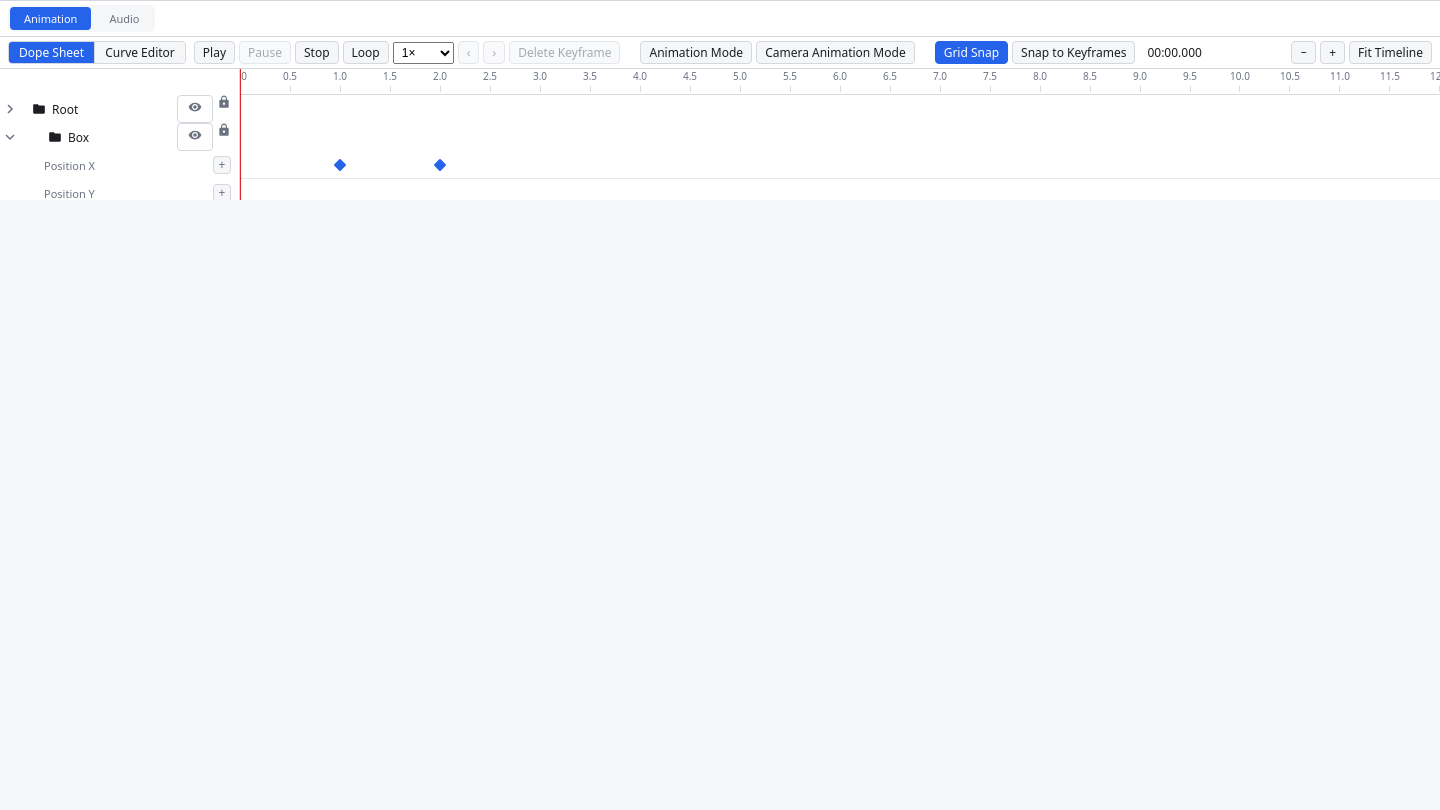
Test: ClipExtraction UI › opens extraction modal and creates a new clip
Note: Select first
Press the mouse on the 1st button with test id "keyframe-marker": (340, 164) [334,158,346,171]
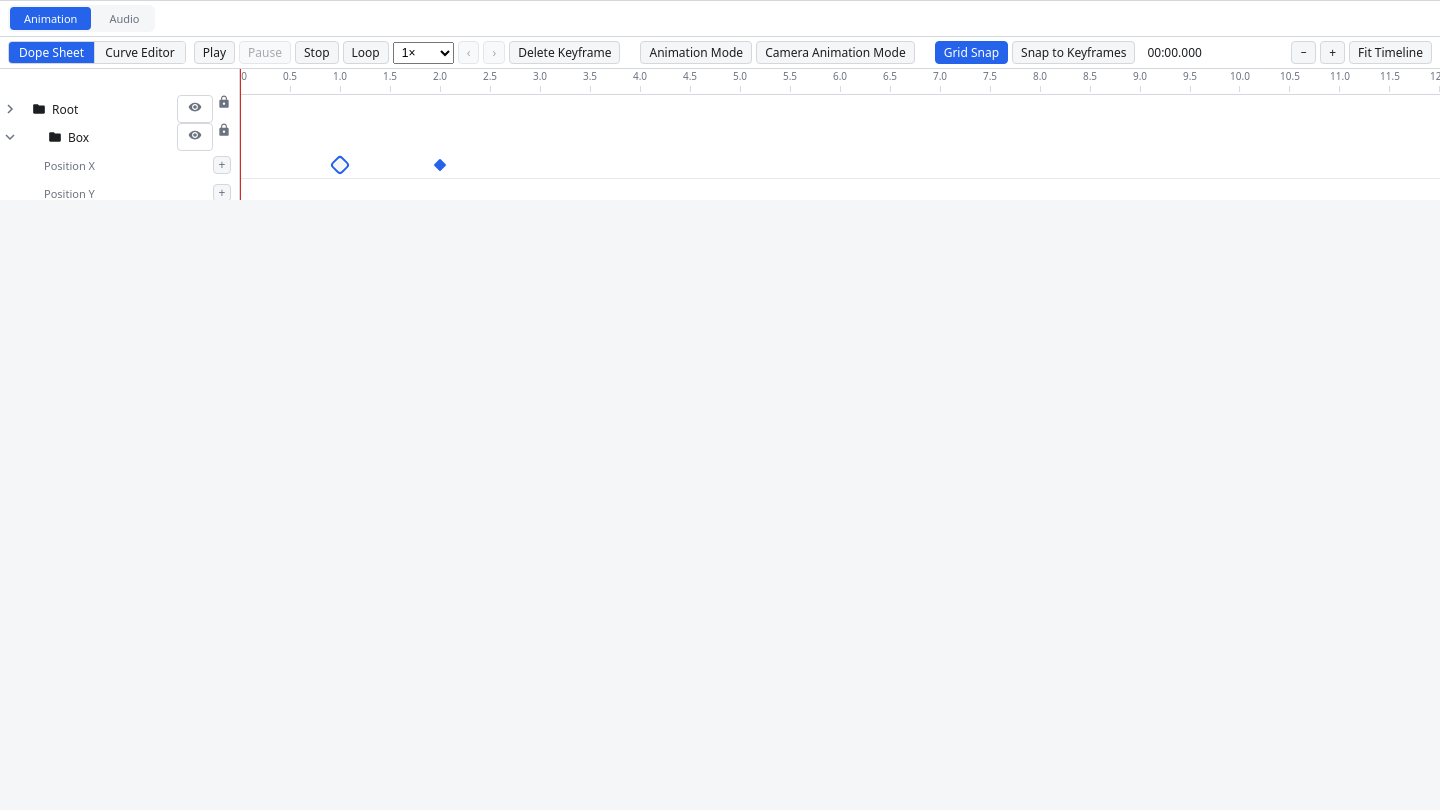
Note: Ctrl+click second
Press the mouse on the 2nd button with test id "keyframe-marker": (440, 164) [434,158,446,171]
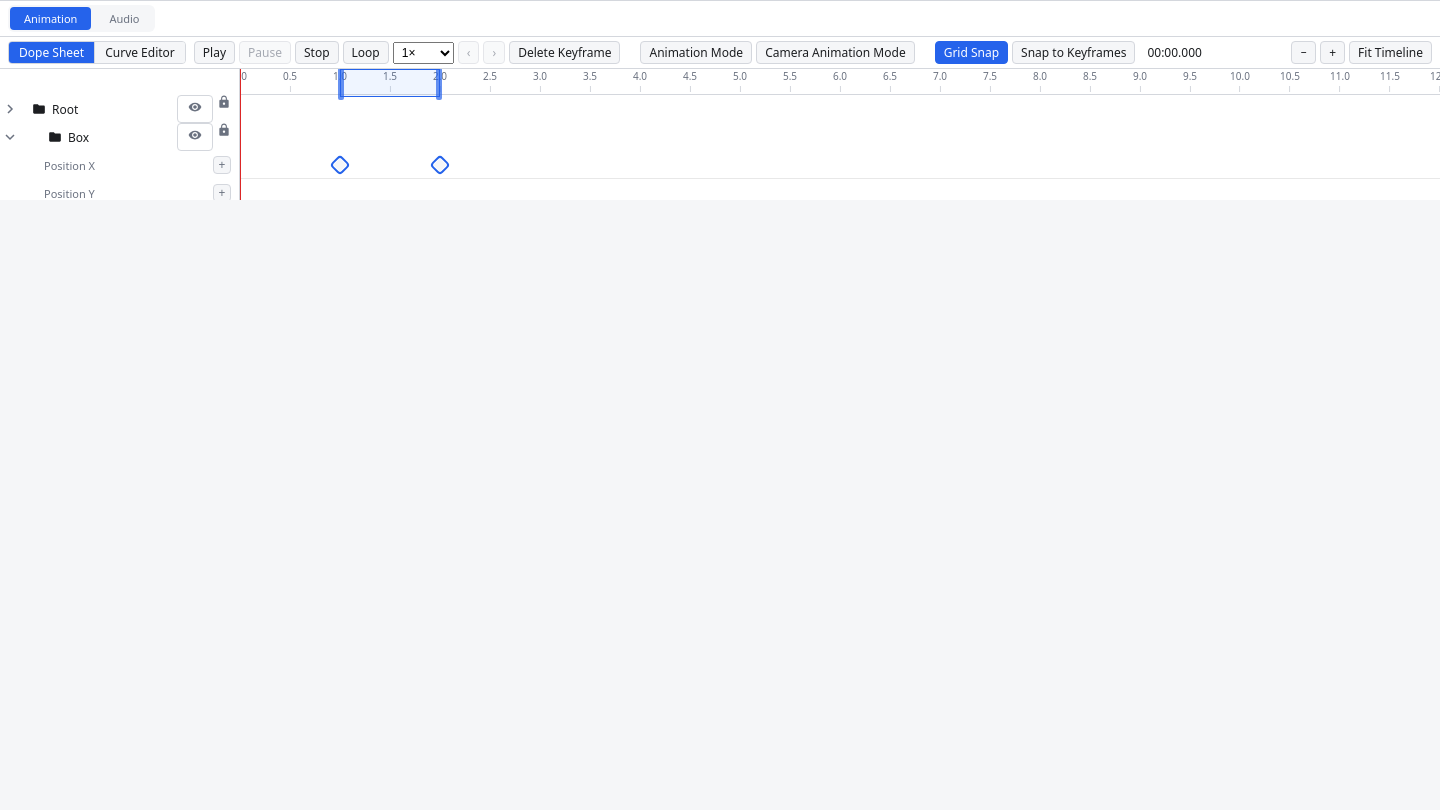
Note: Right-click first
Right-click the 1st button with test id "keyframe-marker": (340, 164) [334,158,346,171]
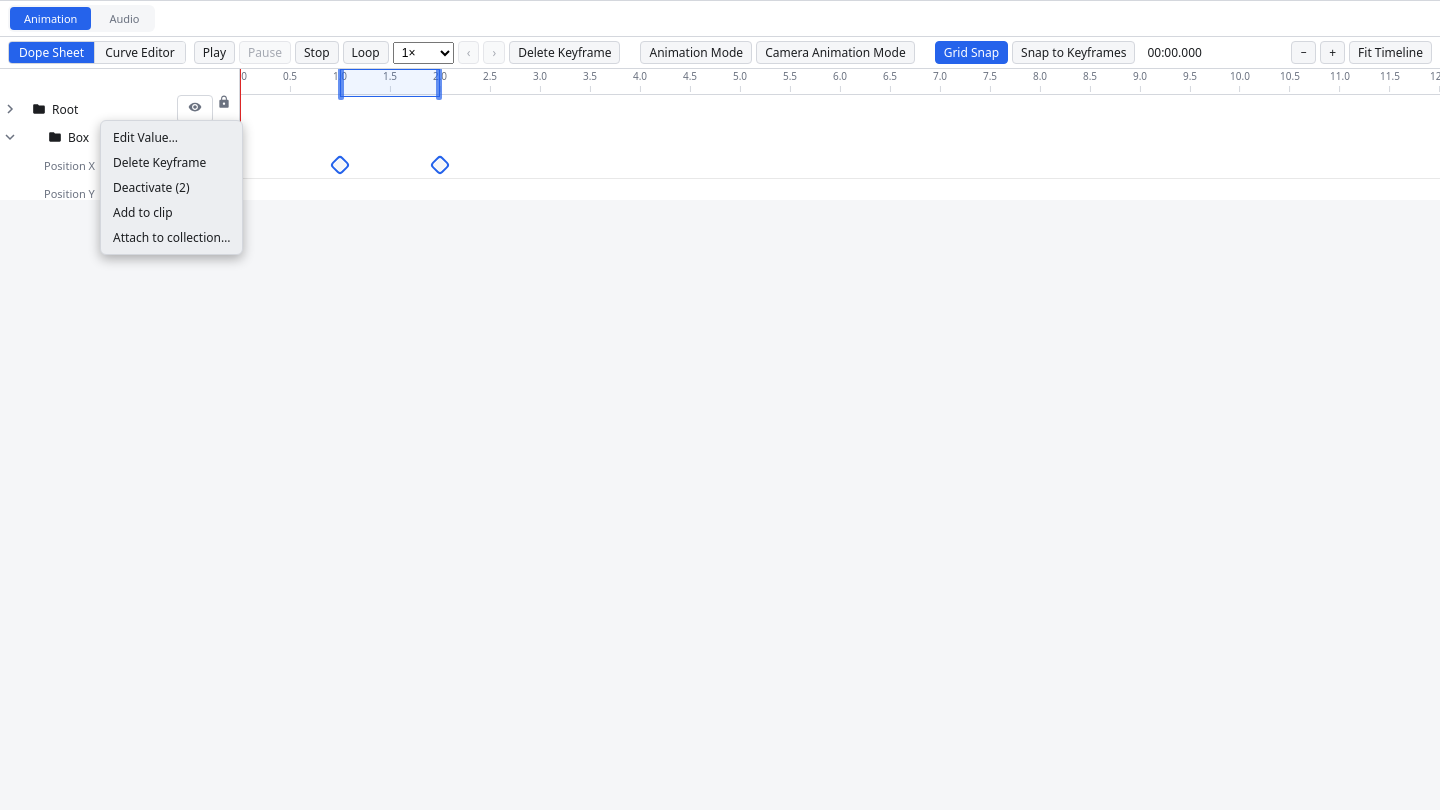
Click the button with test id "add-to-clip-button": (172, 212) [105,200,238,225]
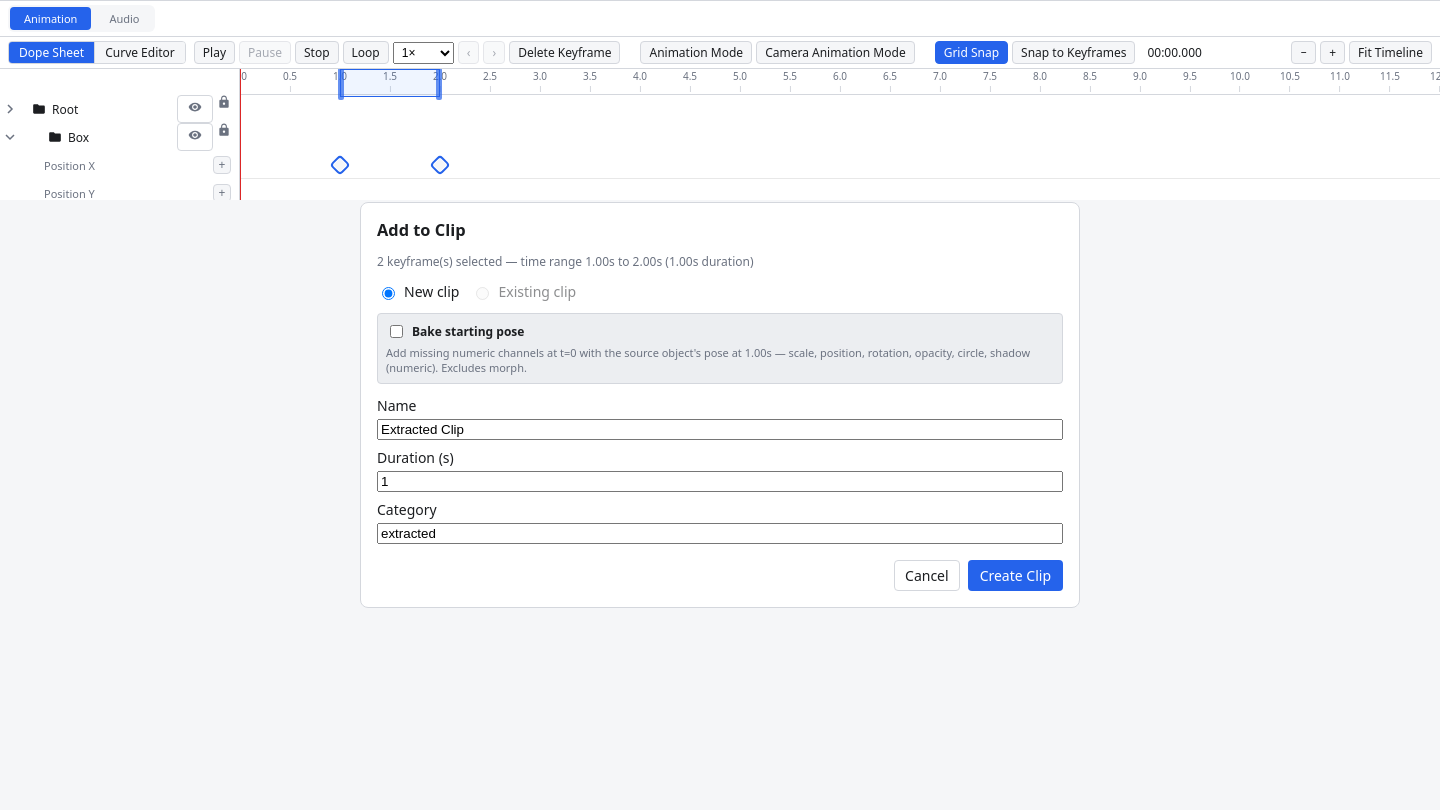
Now the field with test id "clip-extraction-name" holds "Extracted Clip", box [377,419,1063,440]
Click the button with test id "clip-extraction-confirm": (1015, 576) [968,560,1063,591]
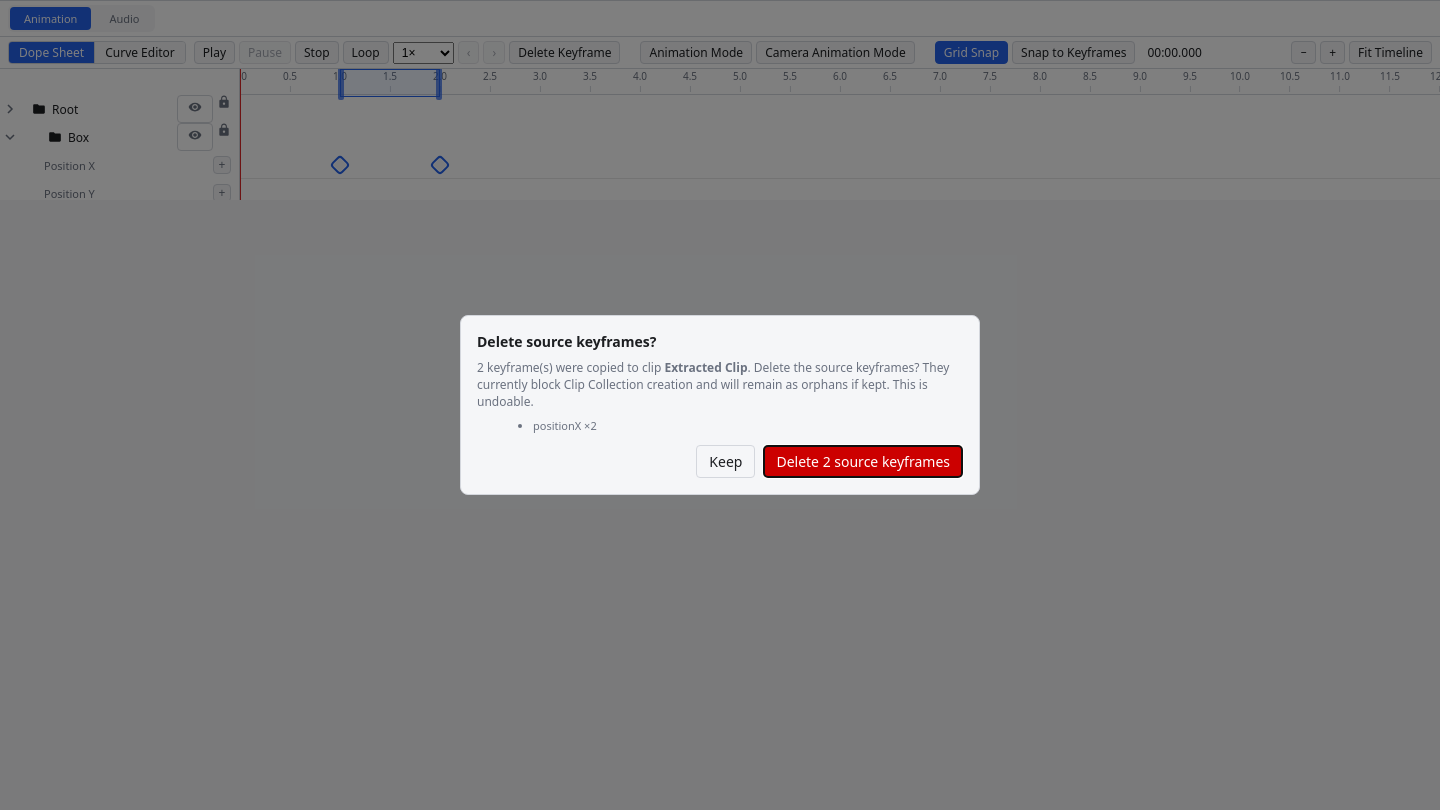
Now the text "Extracted Clip" is shown, box [664,359,748,376]
